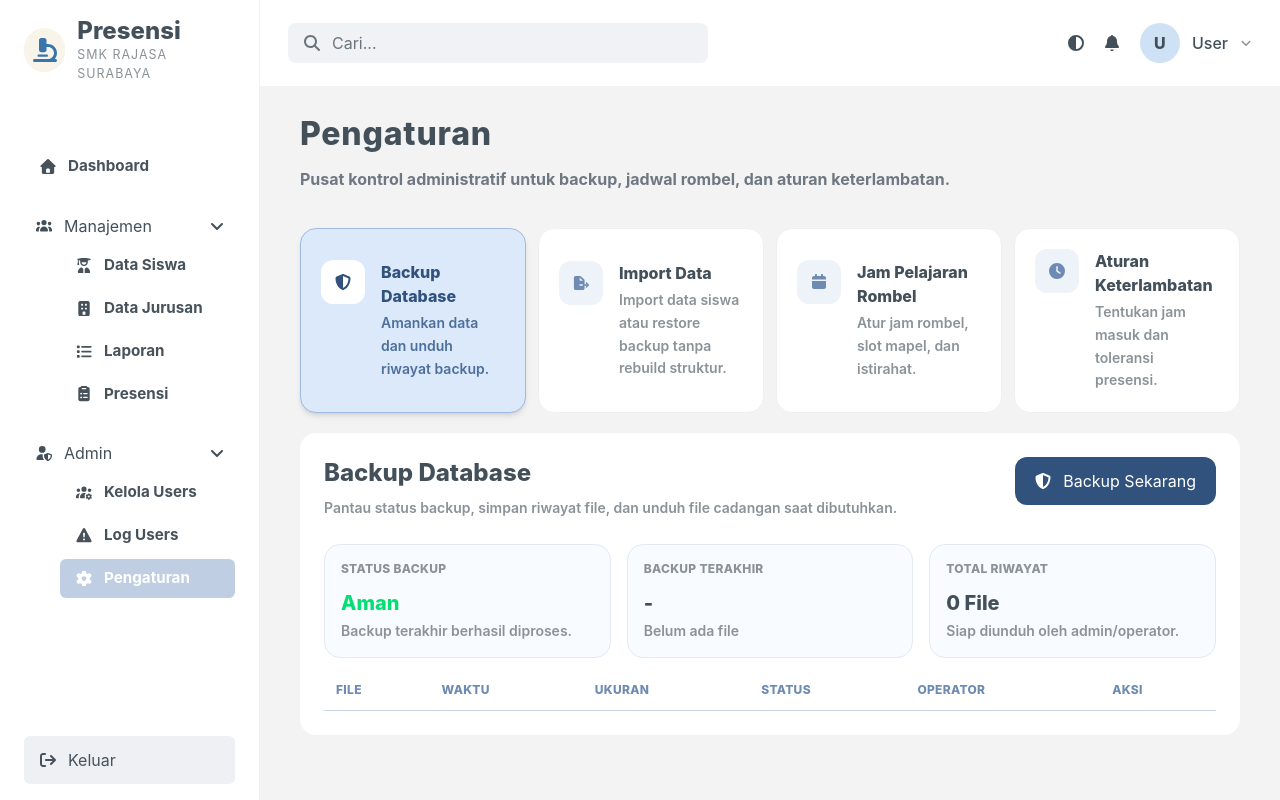
Scenario: pengaturan management page › renders late rule calculator
The image size is (1280, 800).
Click the button "Aturan Keterlambatan".
click(1127, 320)  # box [1014, 228, 1240, 413]
(page scrolled)
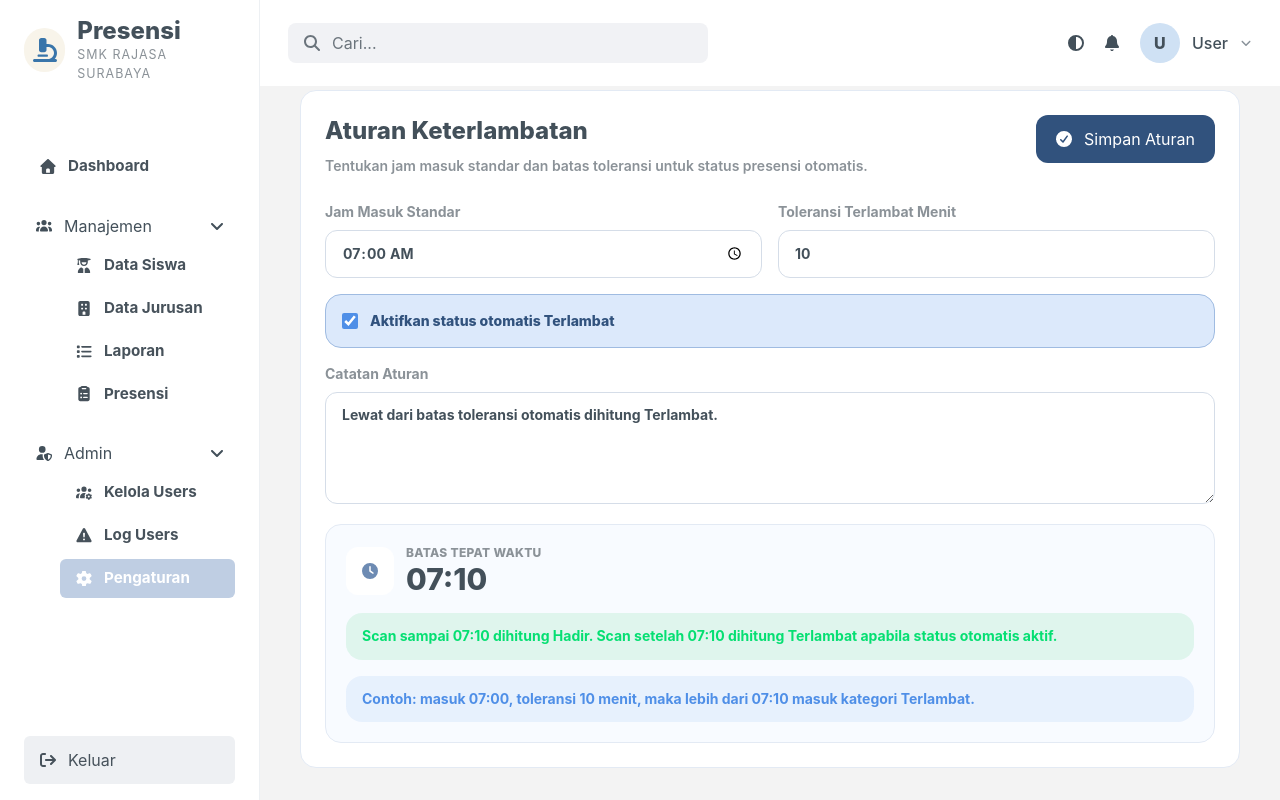
Check: the heading "Aturan Keterlambatan" is shown, box [325, 116, 588, 145]
Check: the text "07:10" is shown, box [406, 561, 487, 597]
